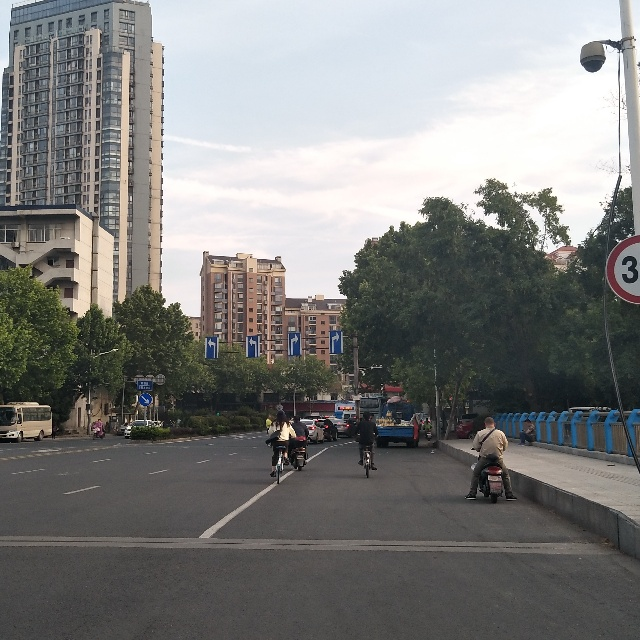left: (245, 332, 261, 363), (199, 336, 217, 362)
right: (286, 330, 309, 361), (326, 324, 346, 359)
